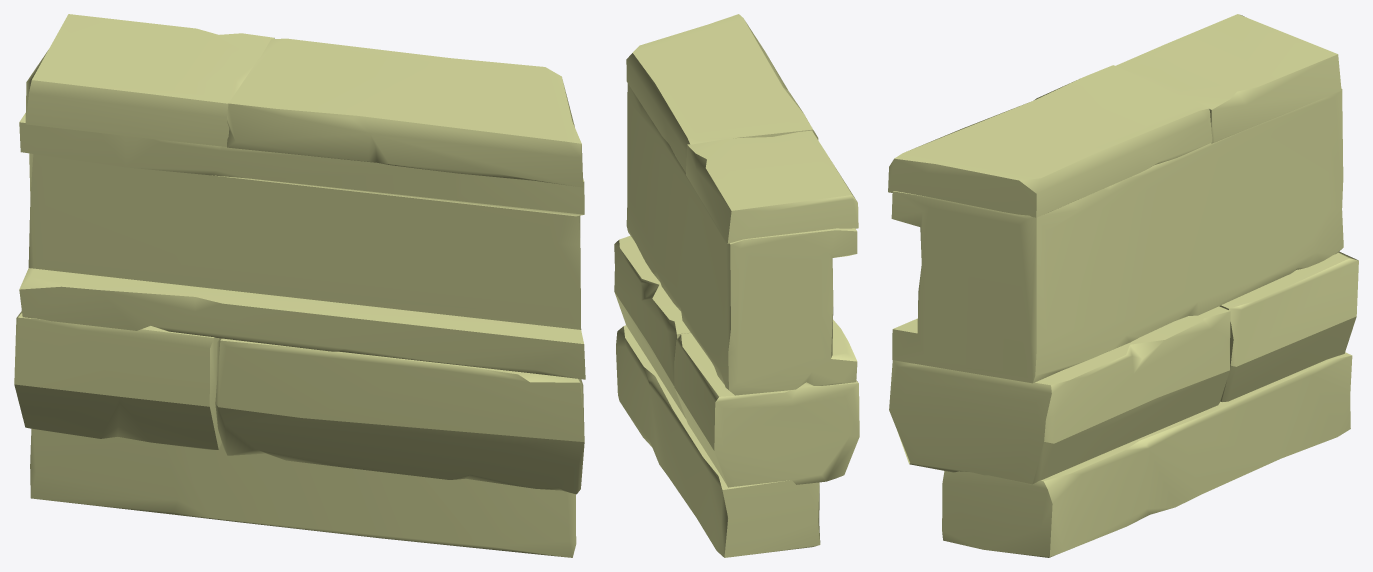
The model's file is Bariere_short_05.fbx.
3 views of the same model, side by side, from view 1: azimuth 30°, elevation 25°; view 2: azimuth 150°, elevation 25°; view 3: azimuth 270°, elevation 25° (orthographic). The views are drawn at different scales.
Parts seen in each view (by area): view 1: Bariere_short_05_LOD0; view 2: Bariere_short_05_LOD0; view 3: Bariere_short_05_LOD0.
Part boxes in pixels (<box>): Bariere_short_05_LOD0: <box>14,14,585,557</box>; Bariere_short_05_LOD0: <box>614,14,859,557</box>; Bariere_short_05_LOD0: <box>888,14,1358,557</box>.
Size of what is drawn, in the model's own units: 149 by 148 by 168.
